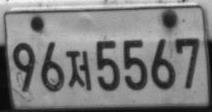5: (121, 38, 149, 91), (95, 39, 120, 92)
6: (150, 38, 176, 90), (40, 40, 65, 92)
7: (176, 37, 202, 88)
9: (11, 41, 36, 92)
저: (65, 50, 92, 90)
